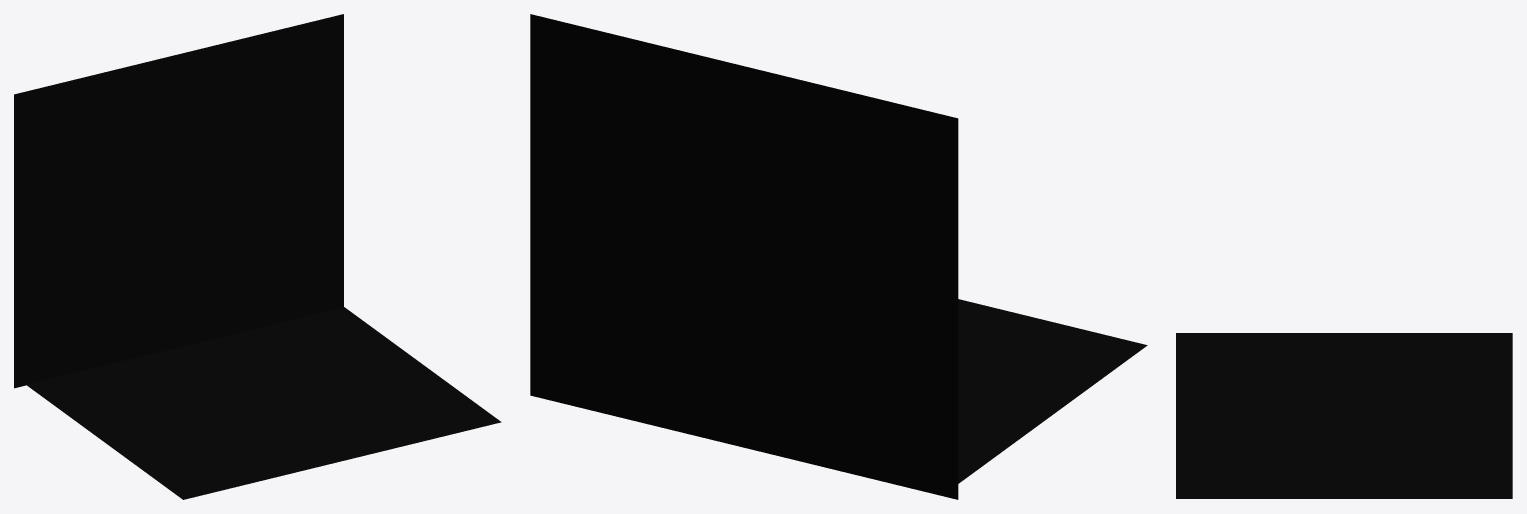
Rendered from floor 4.fbx.
3 views of the same model, side by side, from view 1: azimuth 30°, elevation 25°; view 2: azimuth 150°, elevation 25°; view 3: azimuth 270°, elevation 25° (orthographic). The views are drawn at different scales.
Visible parts, largest first — view 1: root (×2); view 2: root (×2); view 3: root.
Boxes of the visible parts, x1,y1,x2,y2 form: root (×2): (14, 14, 501, 499); root (×2): (530, 14, 1147, 499); root: (1176, 333, 1512, 498).
Size of the model in its own units: 0.8859 by 0.754 by 0.7328.
Materials: 2 (2 with a texture image).
